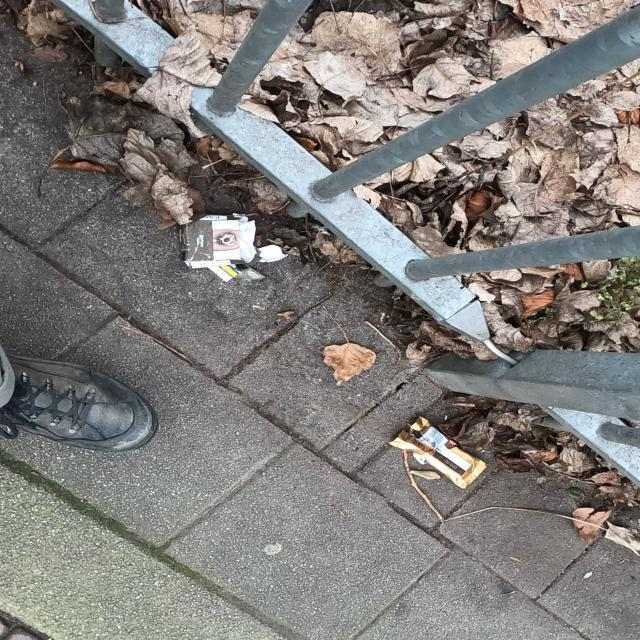Paper: (176, 210, 286, 286)
Plastic: (386, 413, 488, 490)
